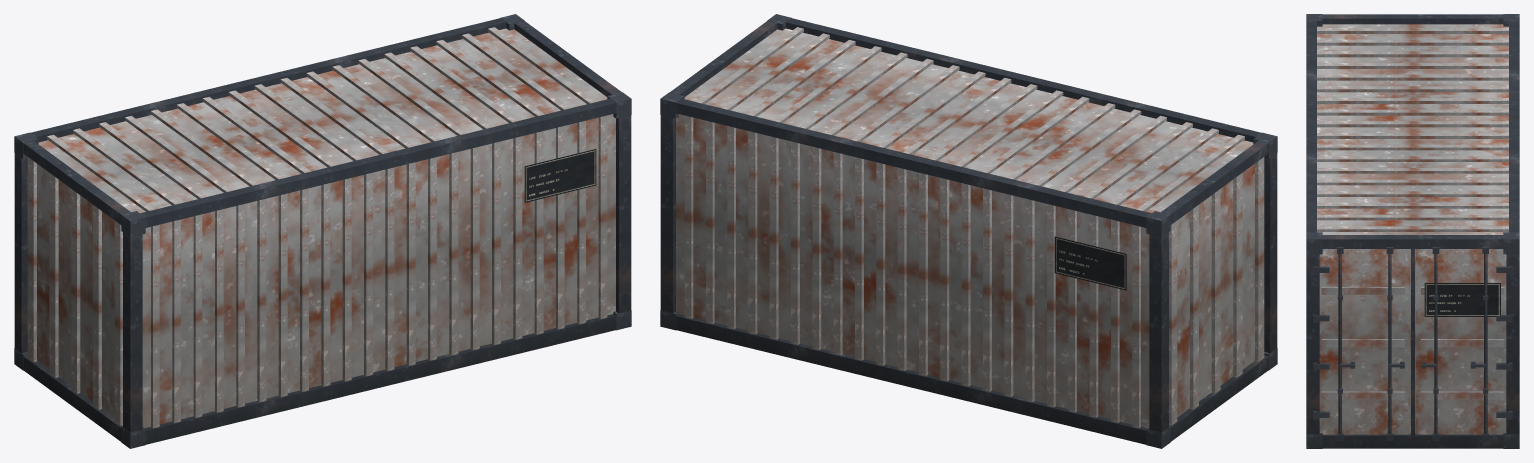
File: map_container.glb
3 renders of one model, left to right at view 1: azimuth 30°, elevation 25°; view 2: azimuth 150°, elevation 25°; view 3: azimuth 270°, elevation 25°, orthographic. The views are drawn at different scales.
Visible parts, largest first — view 1: container_body, container_frame, container_stencil, container_hardware; view 2: container_body, container_frame, container_stencil, container_hardware; view 3: container_body, container_frame, container_hardware, container_stencil.
Boxes of the visible parts, box(x1,y1,x2,y2) form: container_body: box(27, 27, 615, 428); container_frame: box(14, 18, 631, 444); container_stencil: box(524, 149, 596, 202); container_hardware: box(14, 14, 631, 448); container_body: box(676, 27, 1264, 428); container_frame: box(660, 18, 1277, 444); container_stencil: box(1054, 236, 1126, 290); container_hardware: box(660, 14, 1277, 448); container_body: box(1317, 24, 1508, 434); container_frame: box(1306, 14, 1519, 448); container_hardware: box(1306, 14, 1519, 448); container_stencil: box(1424, 283, 1500, 316).
Size of the model in its own units: 6.03 by 2.6 by 2.4.
4 materials, 4 textured.
